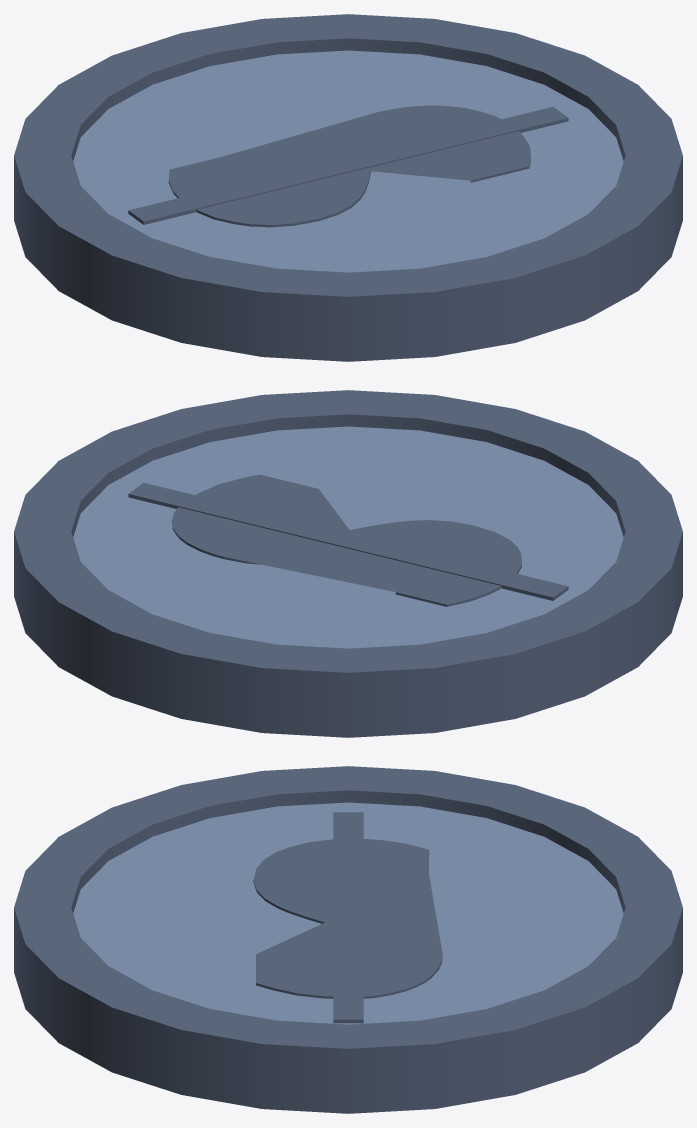
The model's file is silver_coin.fbx.
3 views of the same model, one above another, from view 1: azimuth 30°, elevation 25°; view 2: azimuth 150°, elevation 25°; view 3: azimuth 270°, elevation 25° (orthographic).
Visible parts, largest first — view 1: Cylinder.003; view 2: Cylinder.003; view 3: Cylinder.003.
Boxes of the visible parts, x1,y1,x2,y2 form: Cylinder.003: (14, 14, 682, 361); Cylinder.003: (14, 390, 682, 737); Cylinder.003: (14, 766, 682, 1113).
Bounding box in the file's own units: 200 × 21.44 × 200.
